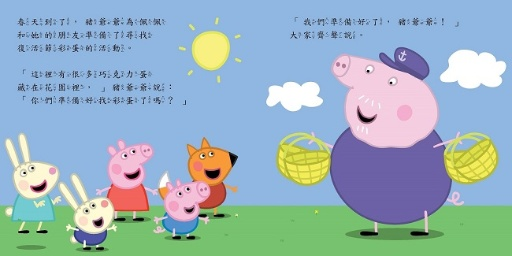Peppa: (95, 139, 159, 223)
